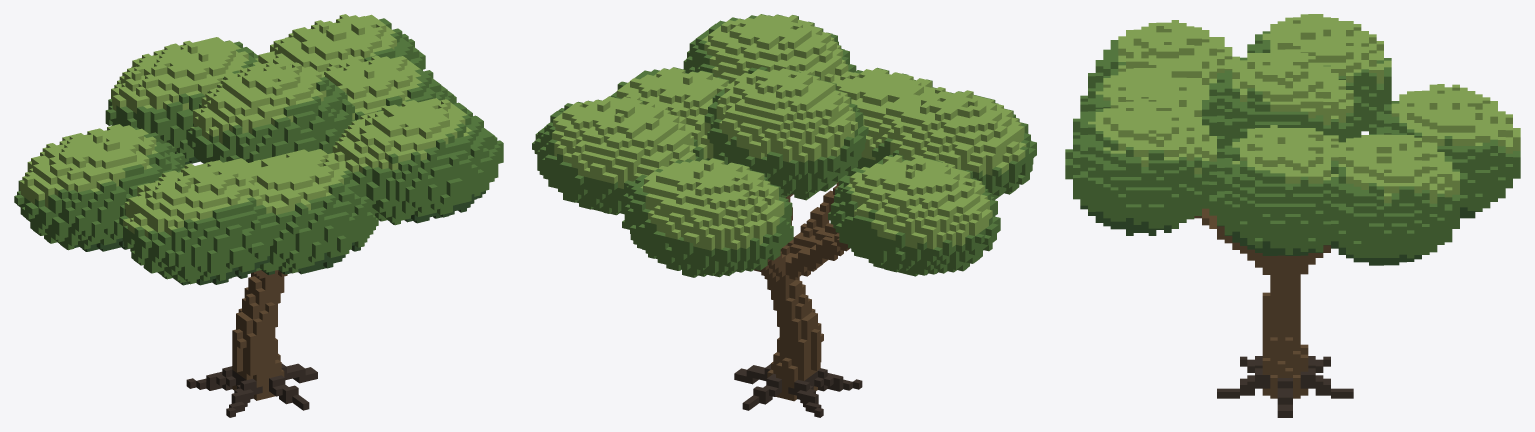
The model's file is ancient_oak_v2_species1_near.glb.
3 renders of one model, left to right at view 1: azimuth 30°, elevation 25°; view 2: azimuth 150°, elevation 25°; view 3: azimuth 270°, elevation 25°, orthographic. The views are drawn at different scales.
Parts seen in each view (by area): view 1: ancient_oak_v2_species1_near; view 2: ancient_oak_v2_species1_near; view 3: ancient_oak_v2_species1_near.
Part boxes in pixels (x1,y1,x2,y2): ancient_oak_v2_species1_near: (14,14,503,417); ancient_oak_v2_species1_near: (532,14,1036,417); ancient_oak_v2_species1_near: (1065,14,1520,417).
Size of the model in its own units: 8.5 by 6 by 7.5.
1 material, 1 textured.
